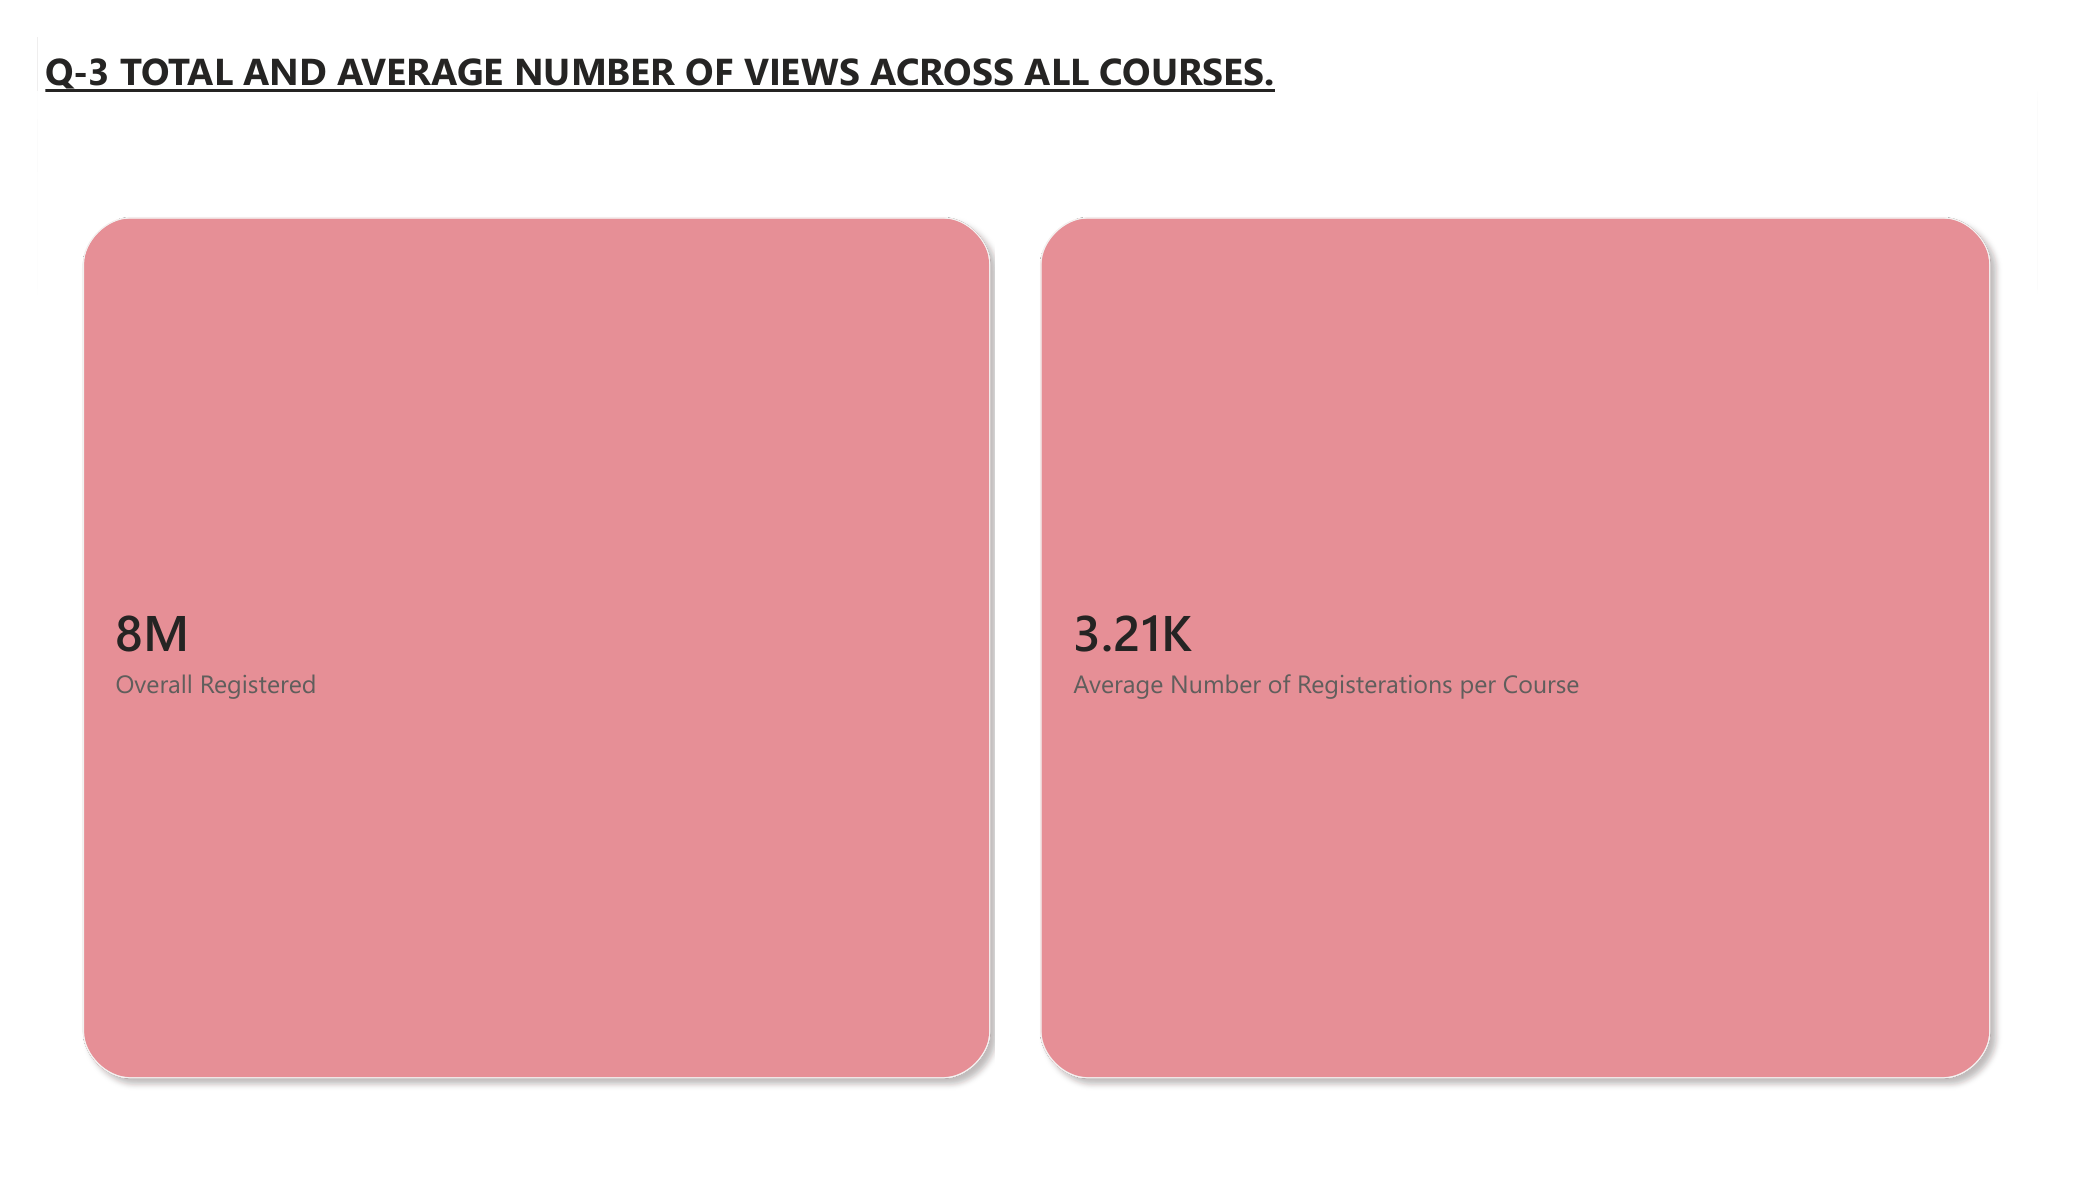

The page's visual inventory and layout, read from the dashboard file:
{"tool":"powerbi","page":{"name":"Q-3","canvas":[1280,720],"ordinal":3},"visuals":[{"type":"cardVisual","fields":{"Data":["Online_Courses.Overall Views"]},"box":[0,86.4,639.5,609.3],"z":0},{"type":"cardVisual","fields":{"Data":["Online_Courses.Average Number of Registerations per Course"]},"box":[613.4,86.4,666.9,609.3],"z":1000},{"type":"textbox","box":[0,0,806.9,52.1],"z":2000}]}

Visuals, with their boxes on the page's 1280x720 design canvas (x1, y1, x2, y2). These are canvas units, not pixel positions in the 2075x1200 screenshot, which may show the page scaled, cropped or inside an application window:
cardVisual - Online_Courses.Overall Views: pyautogui.locateOnScreen(0, 86, 640, 696)
cardVisual - Online_Courses.Average Number of Registerations per Course: pyautogui.locateOnScreen(613, 86, 1280, 696)
textbox: pyautogui.locateOnScreen(0, 0, 807, 52)
